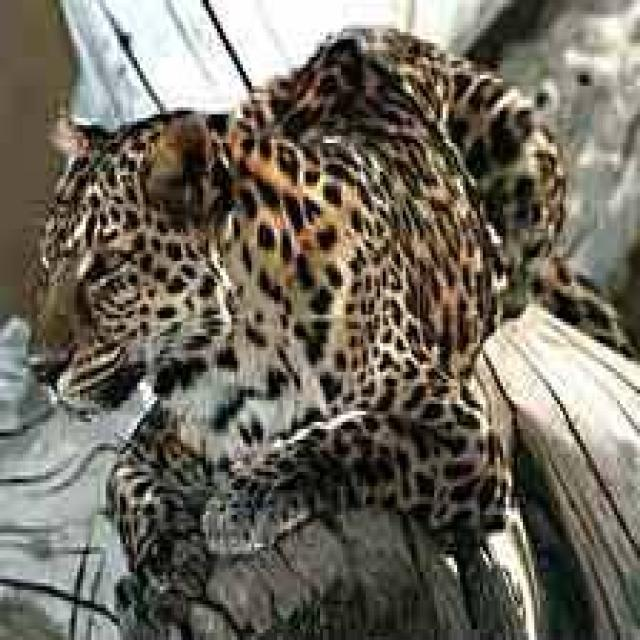Leopard: (31, 14, 568, 536)
